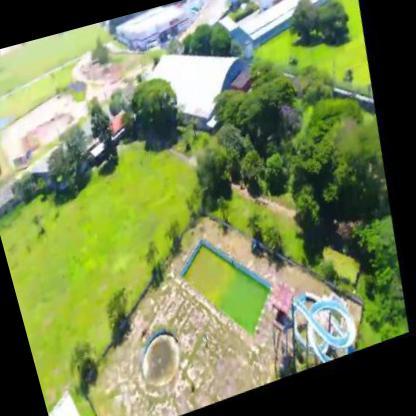agua: (222, 282, 283, 332), (188, 253, 247, 298), (144, 332, 194, 385)
